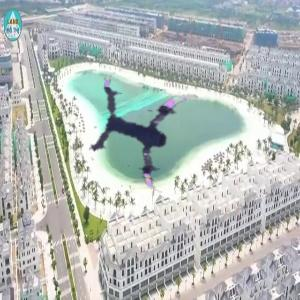drone: (88, 75, 208, 195)
